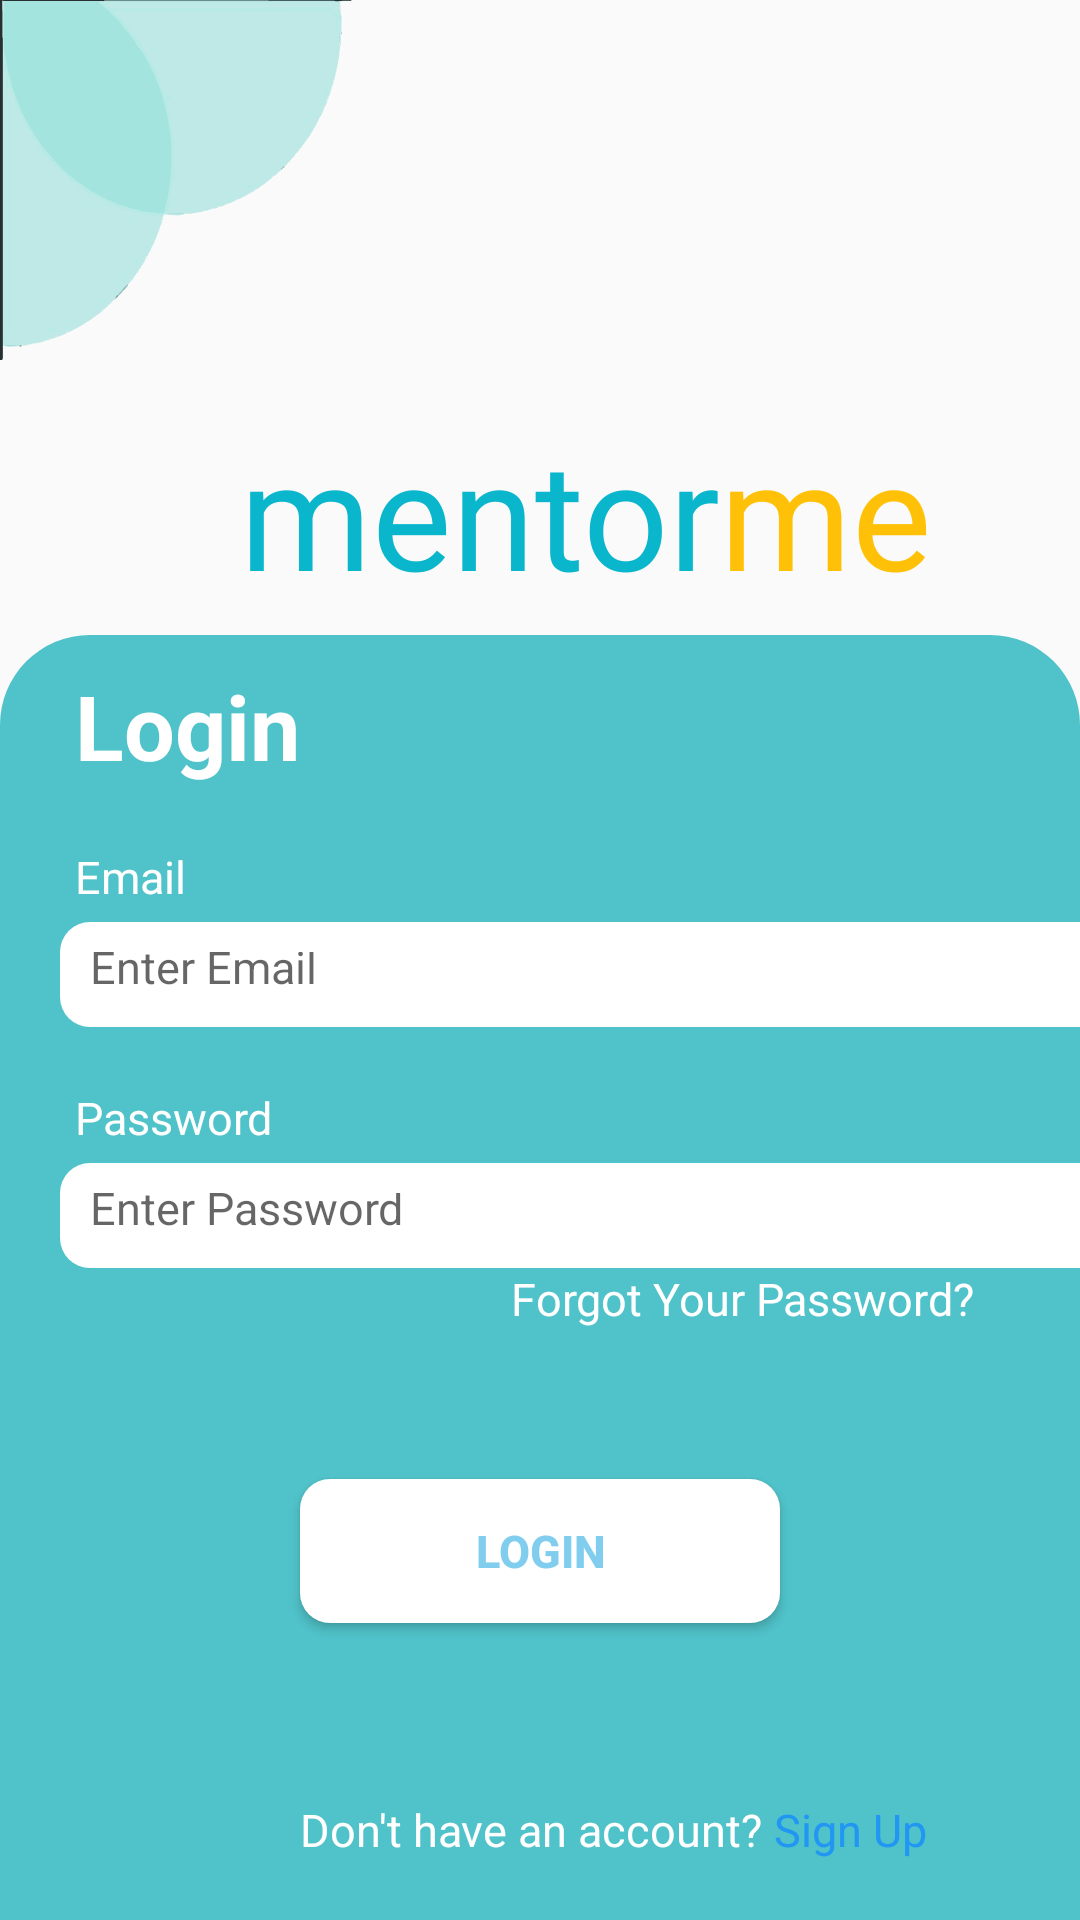

Where to tap for icons on this 1080 x 1920 app screen, as [x,y]:
double circle: [176,180]
